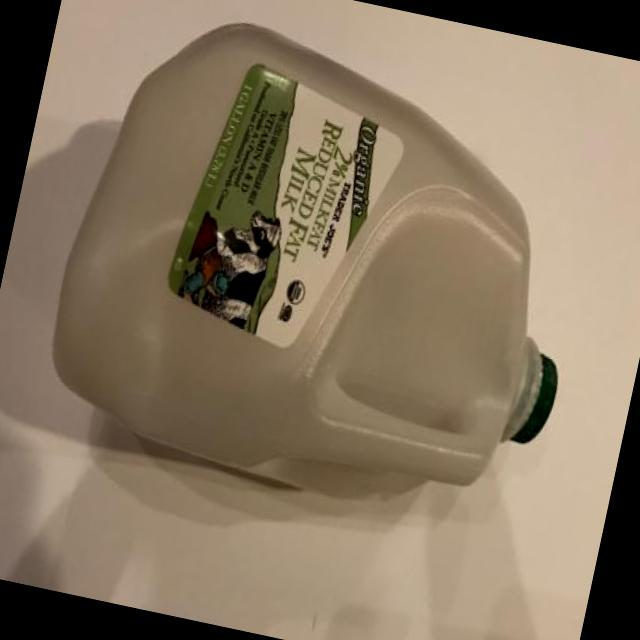Recycle: (29, 0, 619, 544)
